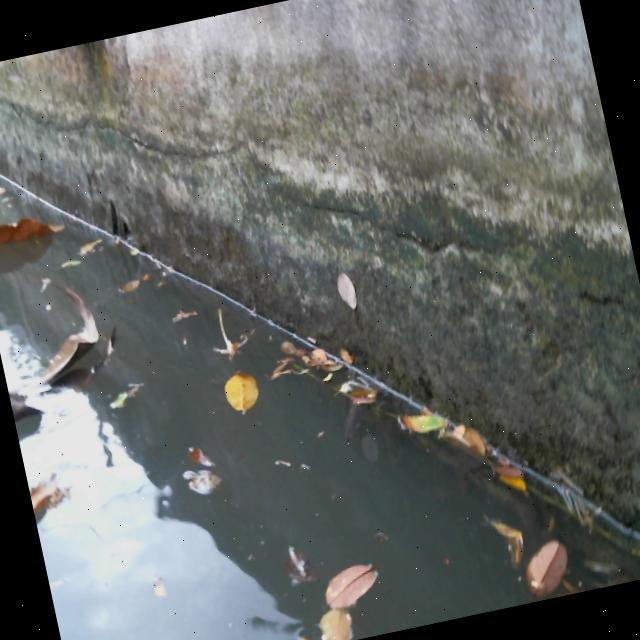Big-leaf: (0, 277, 115, 422), (0, 210, 68, 258)
Small-leaf: (317, 548, 396, 614), (172, 437, 237, 515), (219, 359, 279, 439), (24, 457, 88, 532), (521, 523, 579, 600), (488, 507, 534, 571), (394, 390, 449, 437), (450, 414, 499, 465), (493, 453, 537, 508), (315, 604, 366, 640), (100, 268, 153, 299), (168, 303, 203, 329), (0, 176, 21, 219)
